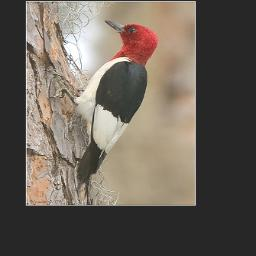Woodpecker: (47, 17, 161, 194)
